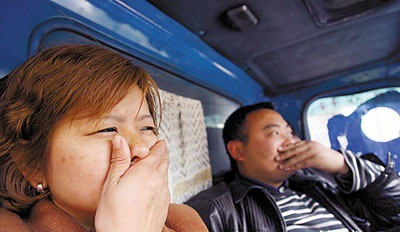face: (61, 86, 165, 214), (253, 110, 301, 178)
